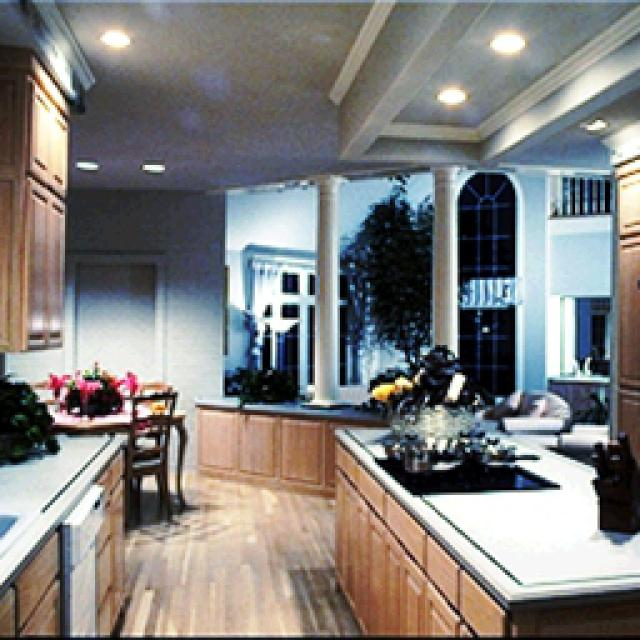2001: (259, 145, 292, 335), (324, 252, 344, 316)
2011: (139, 220, 178, 333)
bouquet: (23, 303, 77, 354)
cabinet door: (0, 35, 40, 299), (346, 134, 363, 390), (0, 448, 34, 540), (51, 382, 71, 538)
cabinets: (188, 375, 363, 542), (110, 348, 189, 422)
ceiling beam: (0, 0, 363, 162)
ceiling lamps: (276, 23, 297, 47), (54, 21, 74, 43), (247, 68, 265, 90), (38, 132, 55, 147), (77, 134, 94, 145)
chair -occluded-: (70, 333, 98, 444)
column occluded: (169, 143, 199, 346), (245, 139, 265, 301)
counter bottom: (188, 363, 363, 514), (0, 371, 70, 497), (107, 333, 218, 363)
dishwasher: (33, 412, 58, 540)
door handle: (33, 213, 92, 322)
lamp crop: (146, 269, 169, 305)
pan: (269, 369, 306, 403)
plant -x: (193, 149, 245, 303), (208, 299, 265, 354), (0, 318, 34, 398), (132, 311, 169, 348)
pot hanger: (225, 343, 265, 401)
sofa bed: (273, 331, 324, 354)
stove burner: (212, 386, 314, 418)
table -X: (30, 341, 111, 435)
